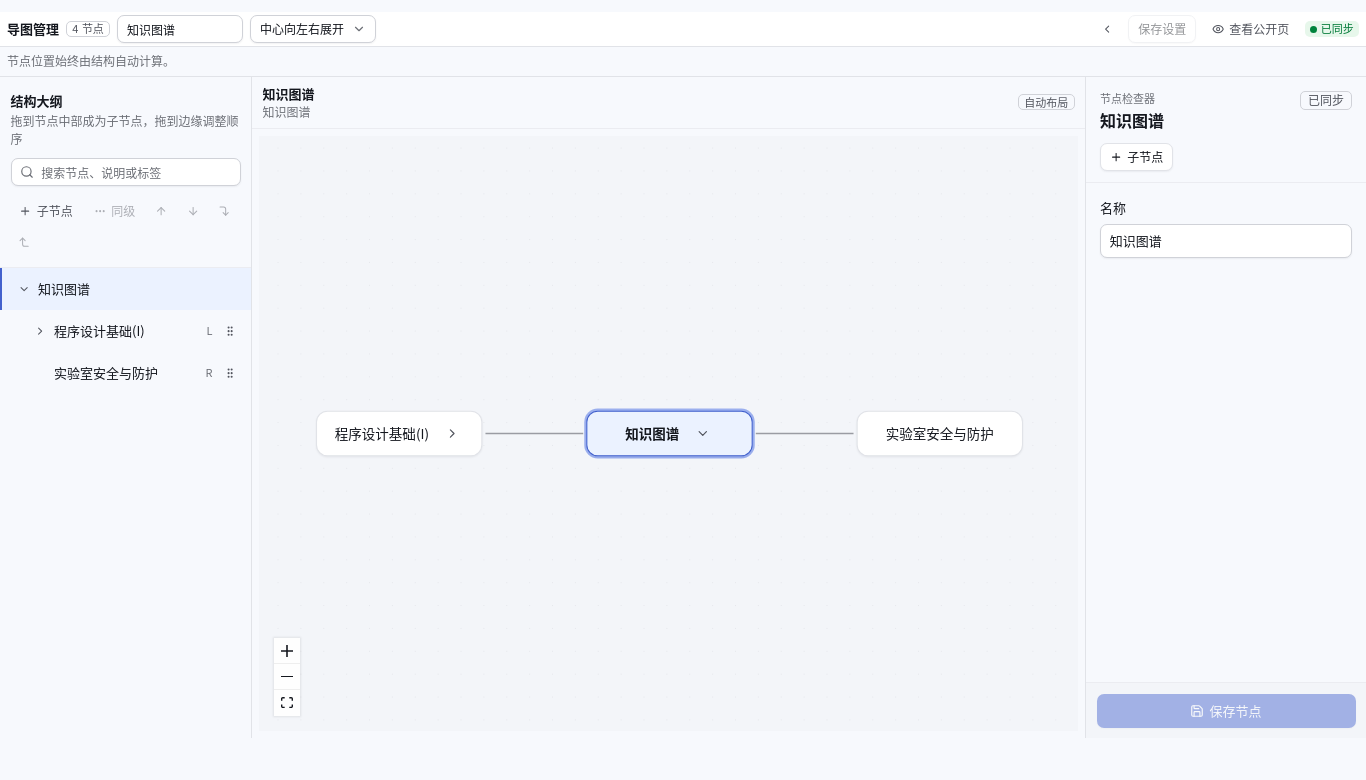
admin mindmap page on the merged tree › shows course-node settings only for a course node
This screenshot has width=1366, height=780.
Expected: the list item "知识图谱" is shown, [0,268,251,310]
Expected: the list item "实验室安全与防护 R" is shown, [54,359,244,387]
Click the list item "程序设计基础(I) L": [126, 331] box [0,310,251,352]
(page scrolled)
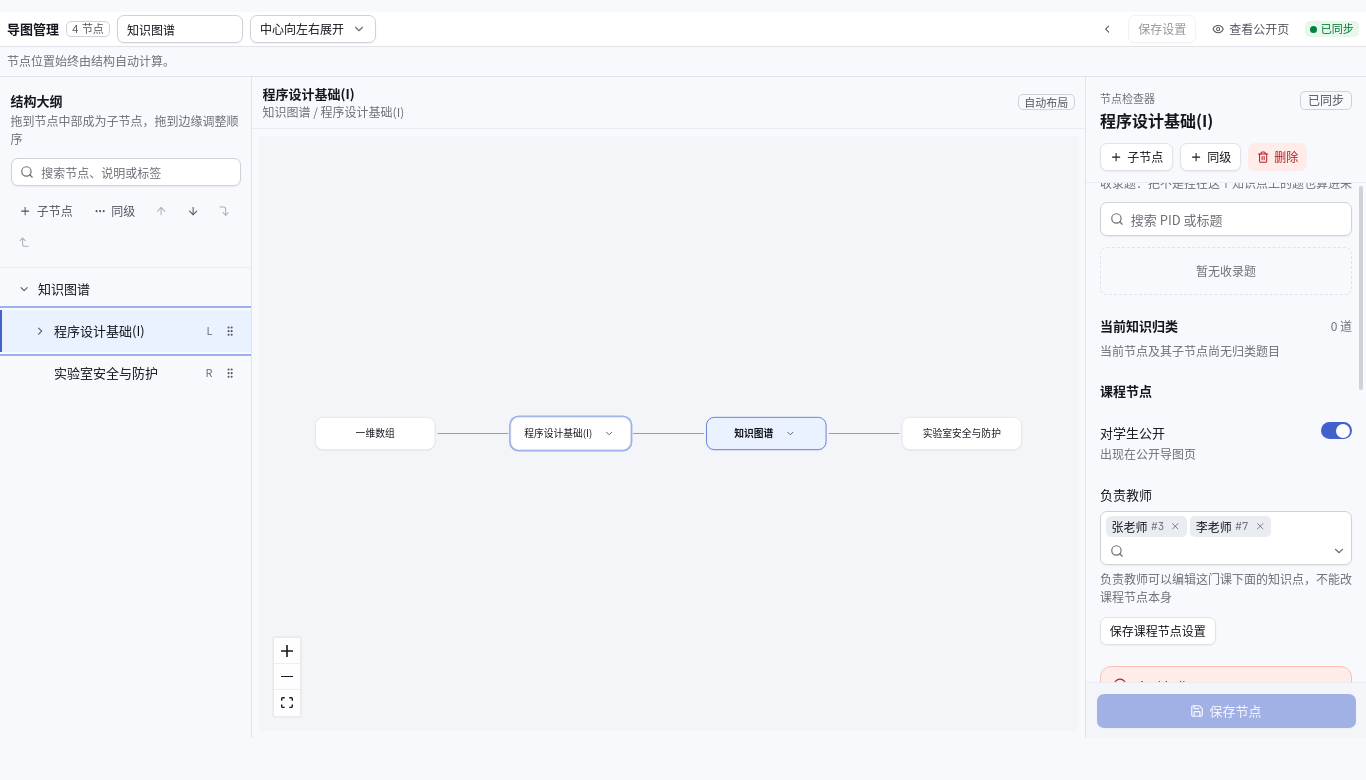
Expected: the switch labelled "对学生公开" is checked
Expected: the text "出现在公开导图页" is shown, [1100,445,1196,463]
Expected: the text "负责教师" is shown, [1100,485,1152,504]
Click the switch labelled "对学生公开": [1132, 432] box [1100,423,1165,442]
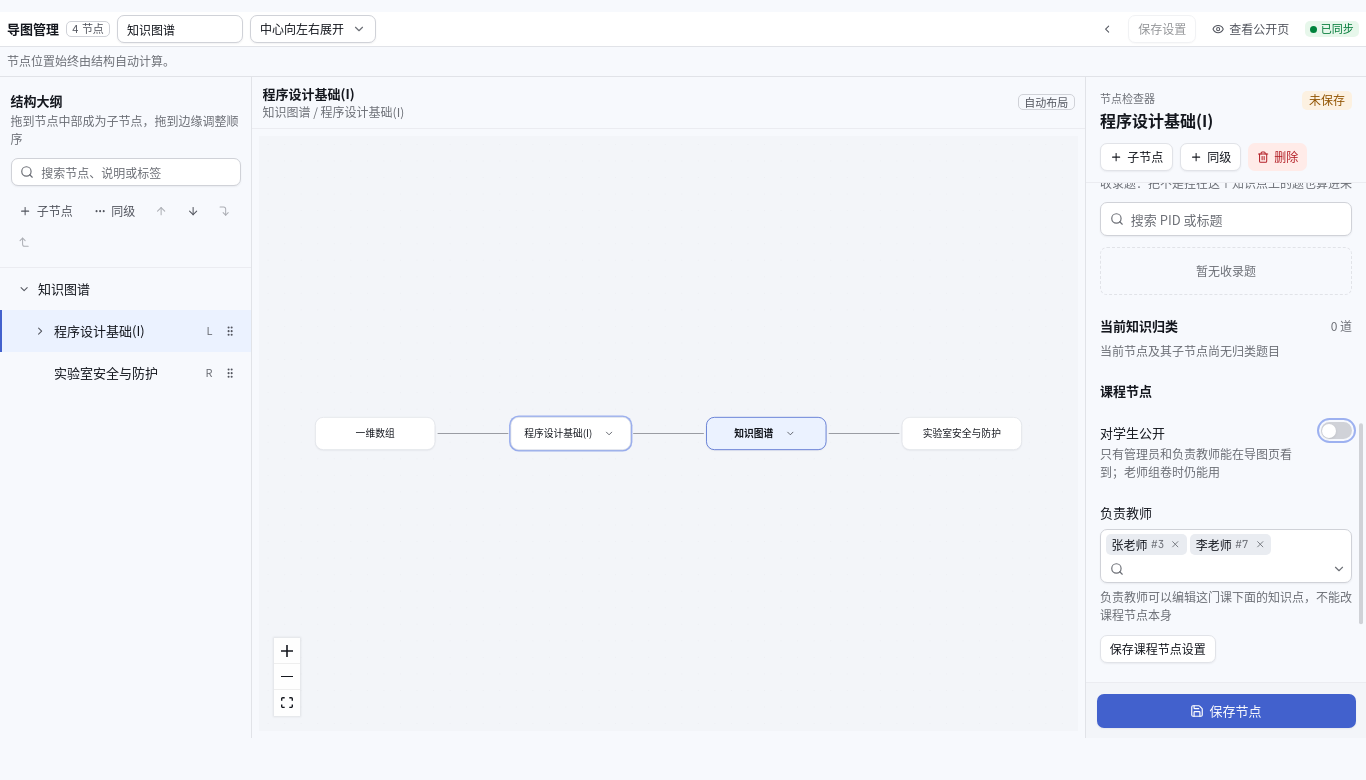
Expected: the text "只有管理员和负责教师能在导图页看到；老师组卷时仍能用" is shown, [1100,445,1306,481]
Expected: the text "出现在公开导图页" is gone
Click the list item "实验室安全与防护 R": [149, 373] box [54,359,244,387]
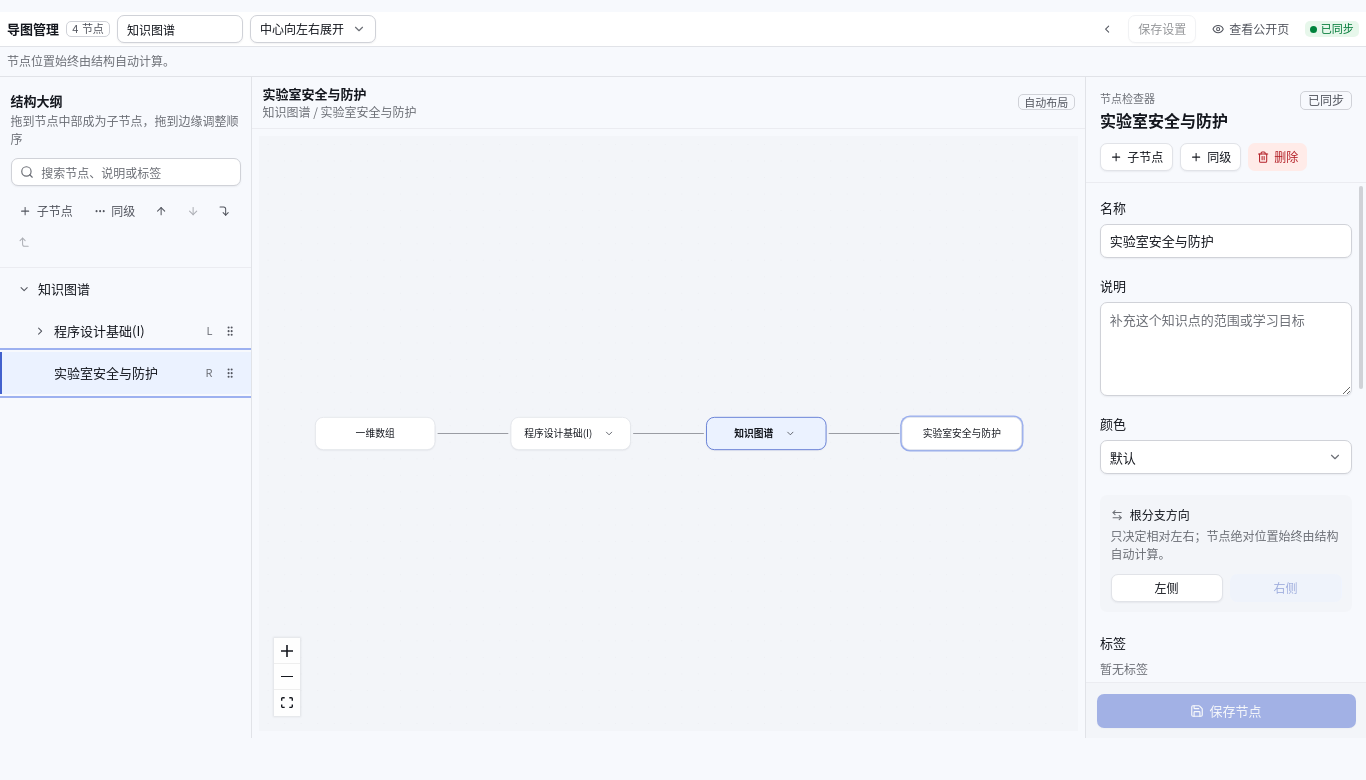
Click the button named "展开节点": [40, 331] box [26,317,54,345]
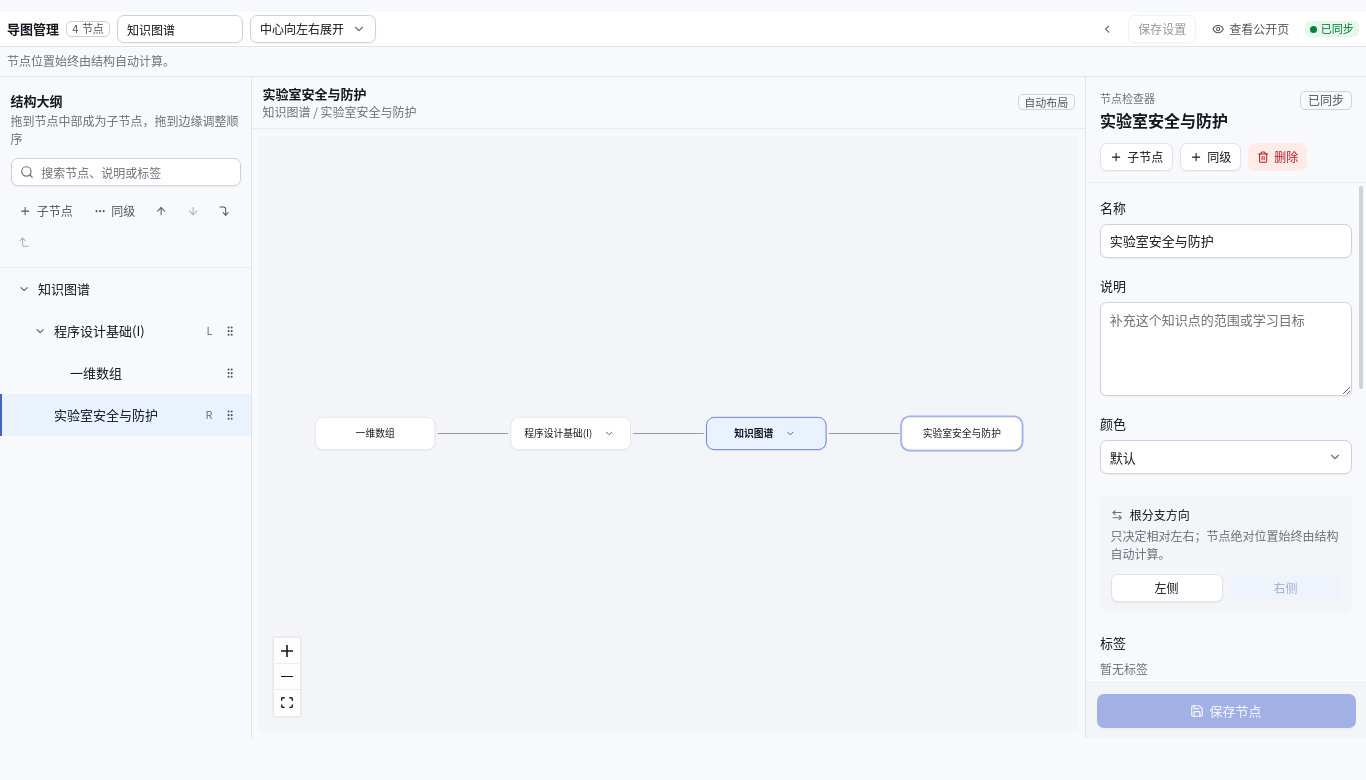
Click the list item "一维数组": [96, 372] box [70,359,244,387]
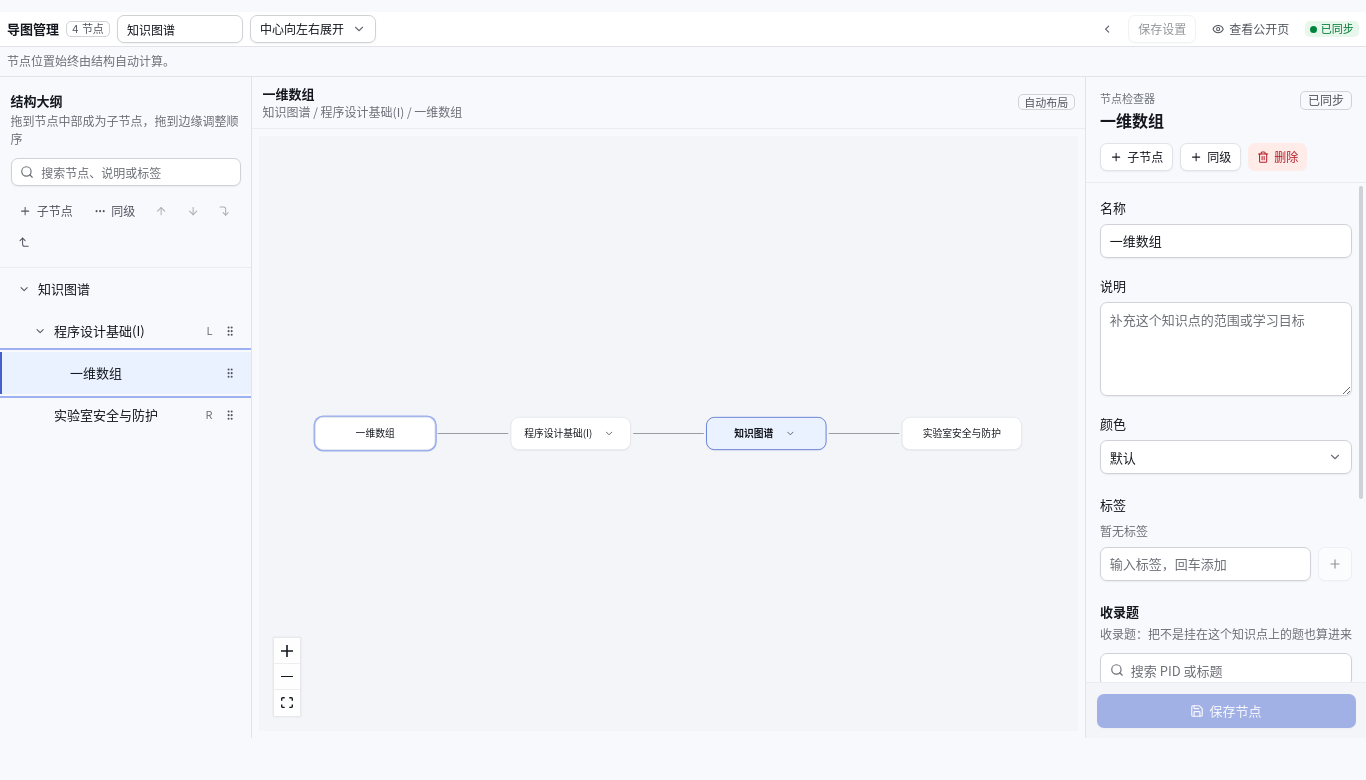
Expected: the checkbox labelled "对学生公开" is not shown
Expected: the heading "一维数组" is shown, [1100,109,1164,133]
